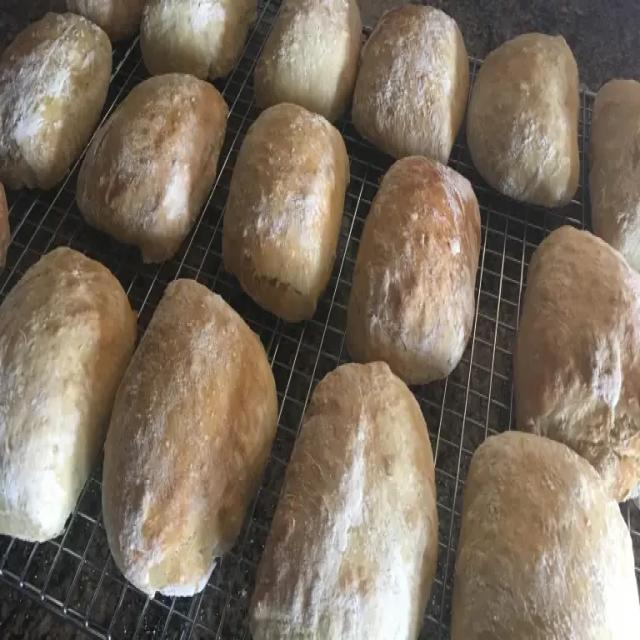Ciabatta: (103, 279, 279, 600), (253, 362, 438, 640), (0, 247, 135, 541), (452, 429, 639, 640), (514, 225, 639, 502), (350, 155, 482, 387), (222, 103, 351, 322), (79, 76, 228, 264), (465, 35, 580, 209), (0, 14, 112, 188), (352, 9, 469, 162), (254, 0, 363, 119), (591, 79, 639, 274), (140, 0, 252, 77)
